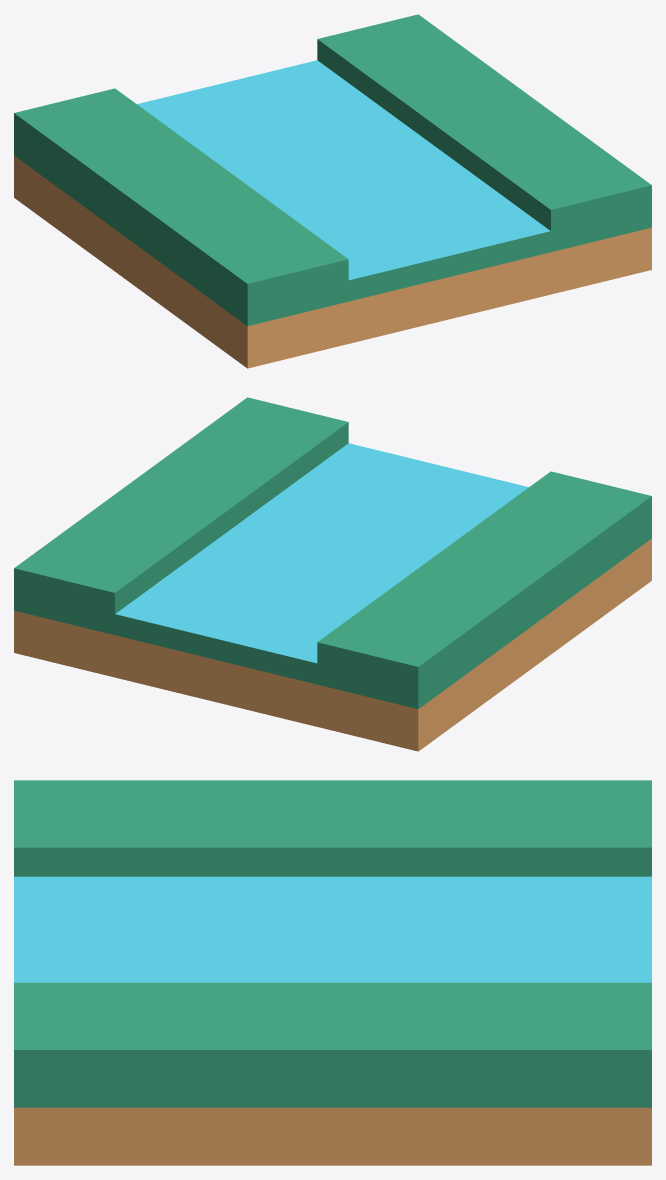
Rendered from TileRiverStraightGrass.fbx.
The picture shows the model from 3 angles, top to bottom: view 1: azimuth 30°, elevation 25°; view 2: azimuth 150°, elevation 25°; view 3: azimuth 270°, elevation 25°; orthographic projection. The views are drawn at different scales.
Visible parts, largest first — view 1: tile_riverStraight; view 2: tile_riverStraight; view 3: tile_riverStraight.
Part boxes in pixels (box(x1,y1,x2,y2)): tile_riverStraight: box(14, 14, 651, 368); tile_riverStraight: box(14, 397, 651, 751); tile_riverStraight: box(14, 780, 651, 1165).
Bounding box in the file's own units: 39.37 × 7.87 × 39.37.
